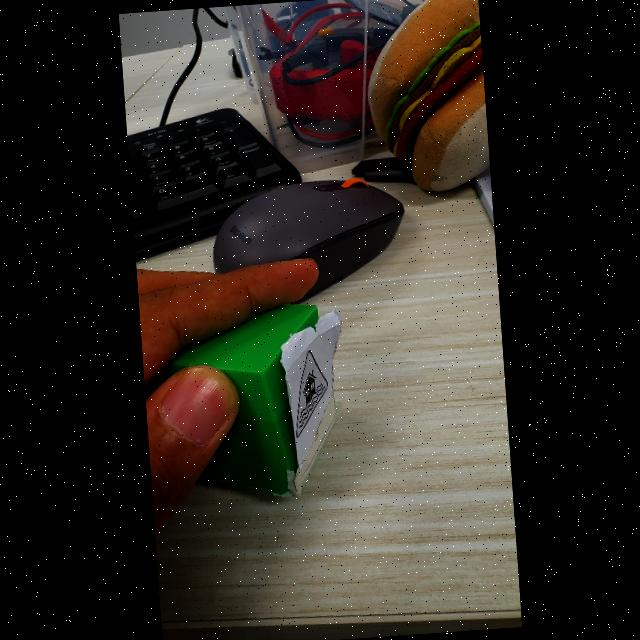Tsunami: (295, 350, 327, 438)
